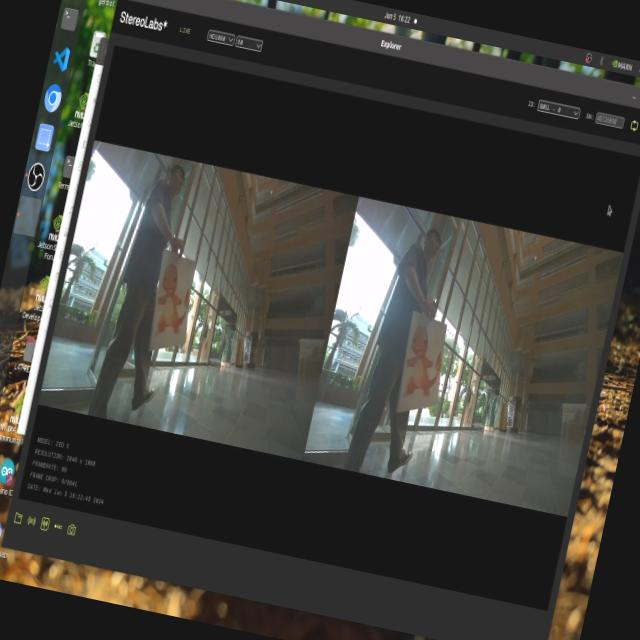red: (136, 247, 204, 351), (387, 325, 448, 427)
